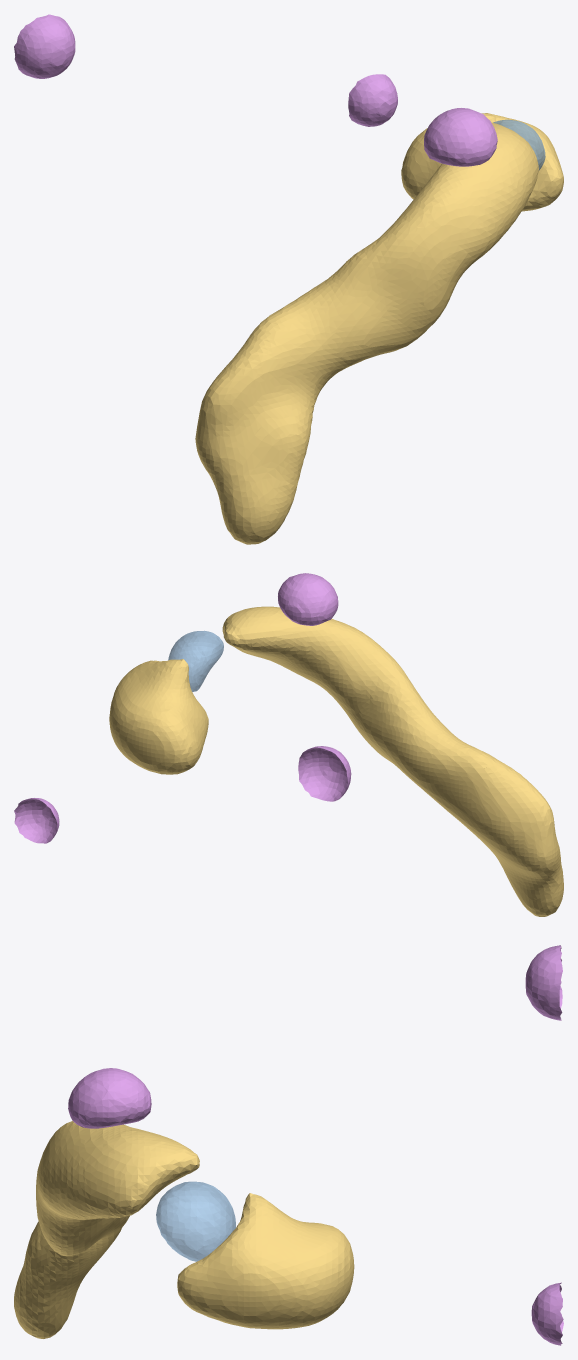
The model's file is prompt.glb.
3 views of the same model, one above another, from view 1: azimuth 30°, elevation 25°; view 2: azimuth 150°, elevation 25°; view 3: azimuth 270°, elevation 25° (orthographic). The views are drawn at different scales.
Visible parts, largest first — view 1: world; view 2: world; view 3: world.
Boxes of the visible parts, x1,y1,x2,y2 form: world: (14,14,563,544); world: (14,573,563,916); world: (14,945,563,1345).
Size of the model in its own units: 0.7321 by 0.5823 by 0.7298.
